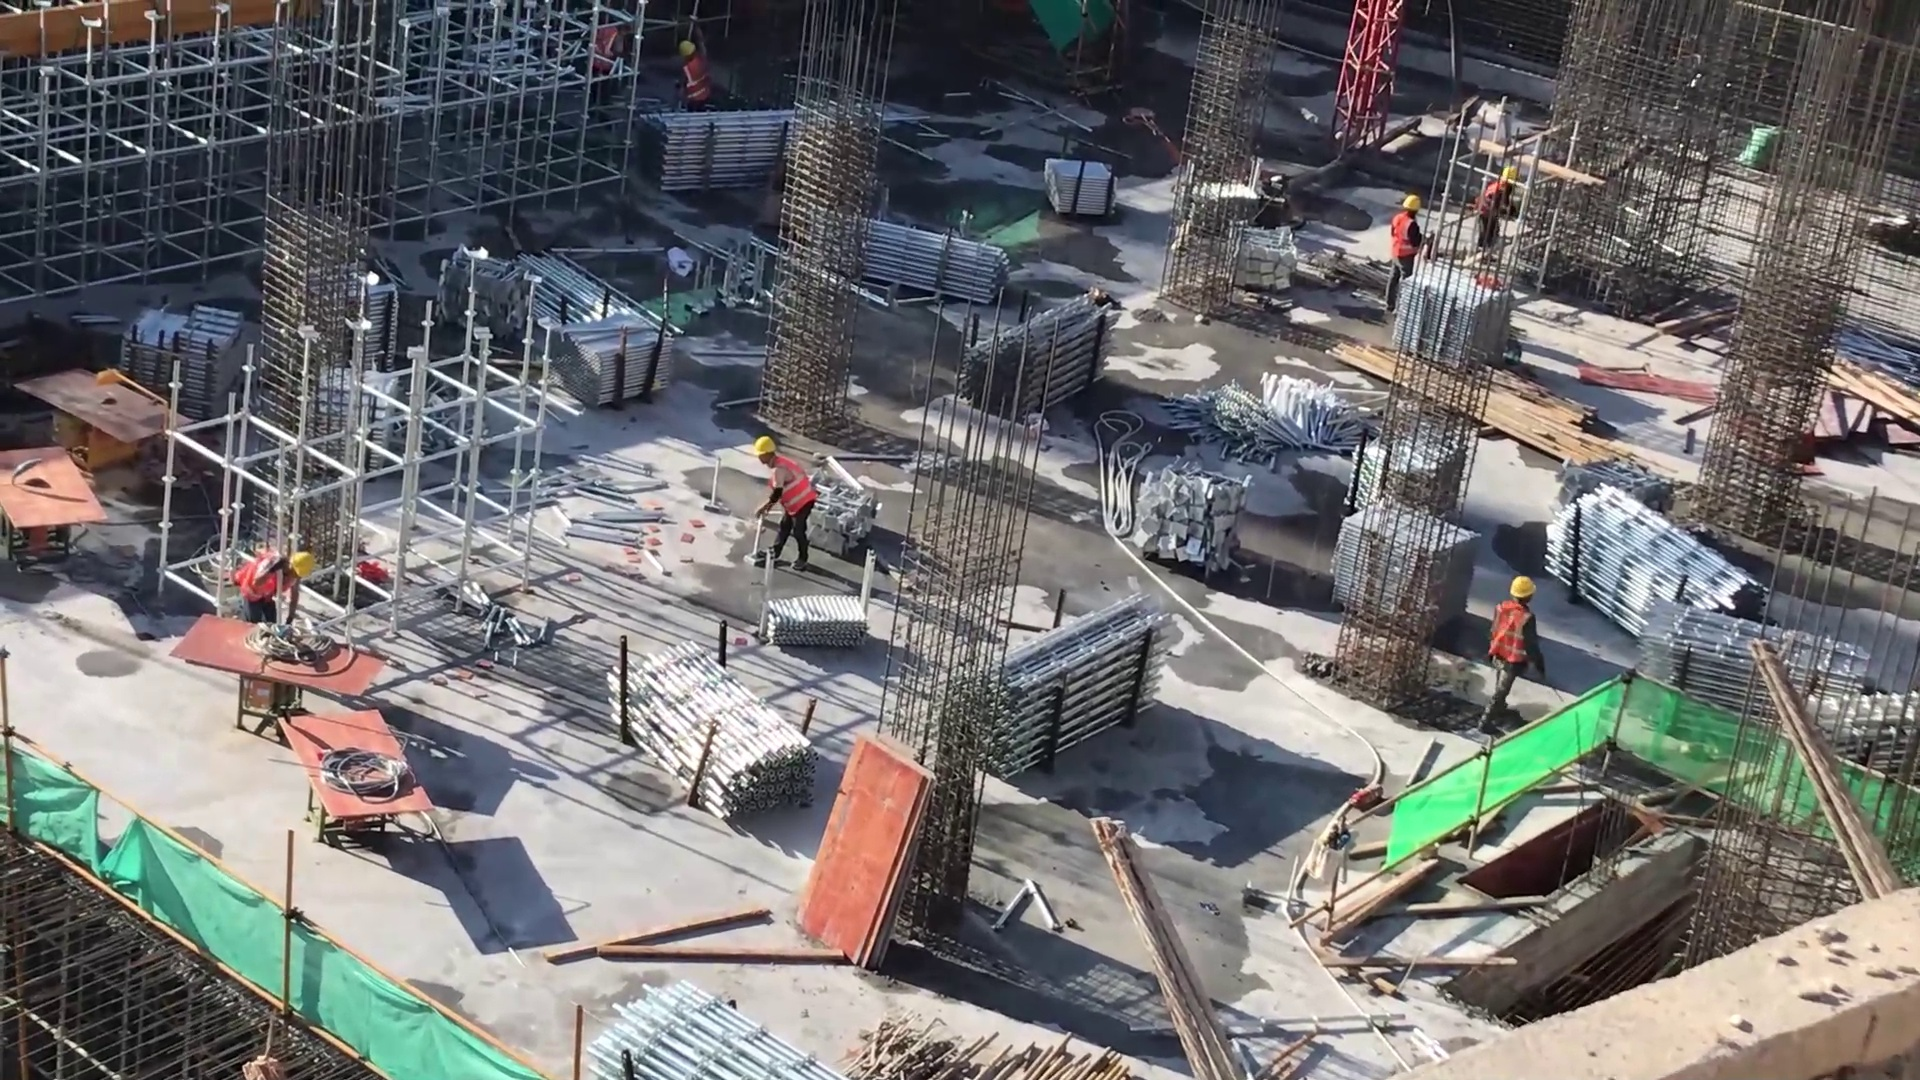helmet: (1505, 574, 1540, 613), (286, 551, 316, 582), (672, 35, 706, 62), (756, 429, 777, 470), (1398, 188, 1425, 216), (1502, 165, 1519, 197)
person: (1470, 573, 1548, 762), (754, 431, 814, 578), (579, 9, 640, 128), (229, 549, 316, 630), (1380, 190, 1428, 323), (1468, 161, 1523, 270), (673, 11, 718, 142)
vest: (1491, 597, 1544, 673), (230, 548, 283, 618), (769, 456, 815, 527), (679, 56, 715, 111), (1390, 213, 1422, 263)
